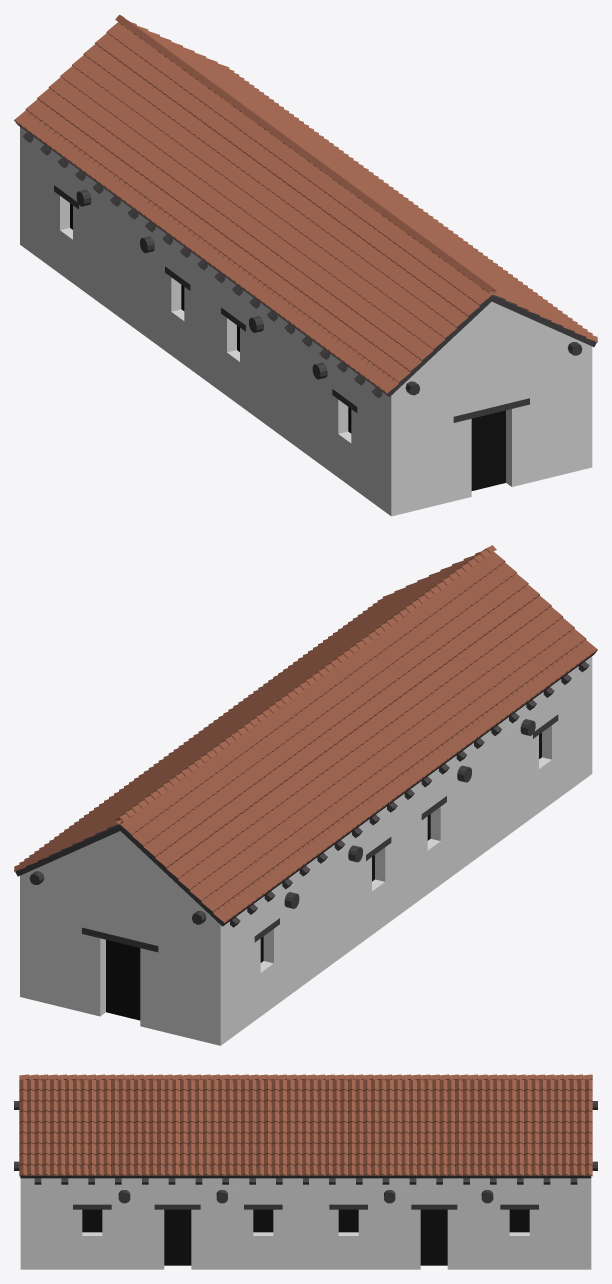
Rendered from monjerio.fbx.
3 renders of one model, top to bottom at view 1: azimuth 30°, elevation 25°; view 2: azimuth 150°, elevation 25°; view 3: azimuth 270°, elevation 25°, orthographic. The views are drawn at different scales.
Visible parts, largest first — view 1: 1roof.001, 1buildling, Cube; view 2: 1roof.001, 1buildling, Cube; view 3: 1roof.001, 1buildling, Cube.
Boxes of the visible parts, x1=… form: 1roof.001: x1=14, y1=14, x2=597, y2=394; 1buildling: x1=20, y1=127, x2=592, y2=516; Cube: x1=15, y1=110, x2=596, y2=398; 1roof.001: x1=14, y1=545, x2=597, y2=923; 1buildling: x1=20, y1=656, x2=592, y2=1045; Cube: x1=15, y1=643, x2=596, y2=927; 1roof.001: x1=19, y1=1074, x2=592, y2=1176; 1buildling: x1=14, y1=1101, x2=597, y2=1269; Cube: x1=20, y1=1155, x2=591, y2=1184.
Size of the model in its own units: 2145 by 1951 by 6558.
